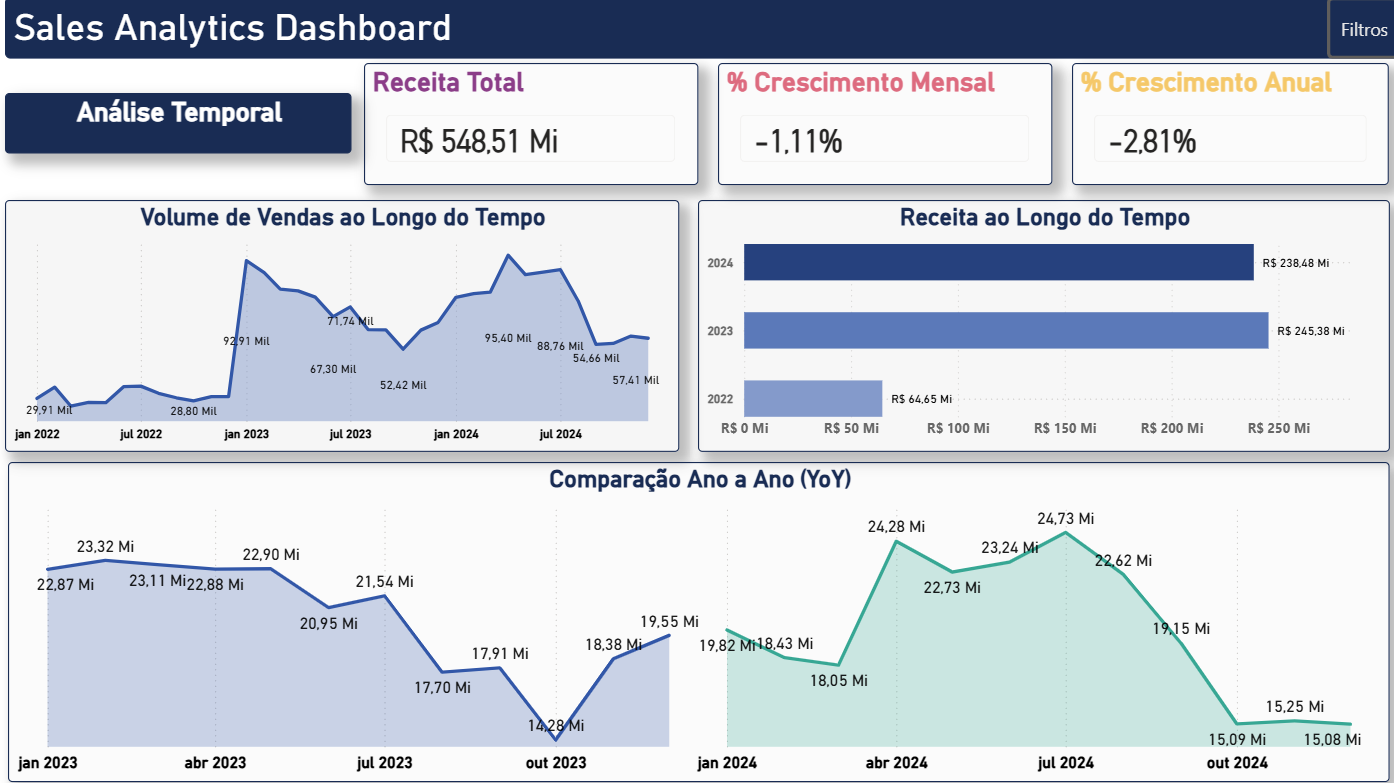

This screenshot's page, from the dashboard's own definition file:
{"tool":"powerbi","page":{"name":"Análise Temporal","canvas":[1280,720],"ordinal":1},"visuals":[{"type":"textbox","box":[10,0,1270,56.4],"z":0},{"type":"cardVisual","title":"Receita Total","fields":{"Data":["Base de Vendas.Fat total"]},"box":[338.7,61.5,303.7,111.6],"z":1000},{"type":"cardVisual","title":"% Crescimento Mensal","fields":{"Data":["Base de Vendas.Crescimento Mensal %"]},"box":[662.2,61.5,303.7,111.6],"z":2000},{"type":"barChart","title":"Receita ao Longo do Tempo","fields":{"Y":["Base de Vendas.Fat total"],"Category":["Base de Vendas.Data Venda Ajustada.Variation.Hierarquia de datas.Ano","Base de Vendas.Data Venda Ajustada.Variation.Hierarquia de datas.Mês"]},"box":[658.2,182.7,610.7,229.3],"z":4000},{"type":"actionButton","title":"Filtros","box":[1211.3,0,68.7,56.5],"z":5000},{"type":"stackedAreaChart","title":"Volume de Vendas ao Longo do Tempo","fields":{"Category":["Base de Vendas.Data Venda Ajustada.Variation.Hierarquia de datas.Ano","Base de Vendas.Data Venda Ajustada.Variation.Hierarquia de datas.Mês"],"Y":["Base de Vendas.Total de Vendas"]},"box":[12.2,182.9,630.6,229.4],"z":6000},{"type":"cardVisual","title":"% Crescimento Anual","fields":{"Data":["Base de Vendas.Crescimento Anual %"]},"box":[975.2,61.8,293.7,111],"z":7000},{"type":"areaChart","title":"Comparação Ano a Ano (YoY)","fields":{"Category":["Base de Vendas.Data Venda Ajustada.Variation.Hierarquia de datas.Ano","Base de Vendas.Data Venda Ajustada.Variation.Hierarquia de datas.Mês"],"Y":["Base de Vendas.Receita Ano Anterior","Base de Vendas.Receita Ano Atual"]},"box":[12.7,422.7,1256.4,290.9],"z":8000},{"type":"kpi","title":"Análise Temporal","fields":{"Indicator":["Base de Vendas.Fat total"]},"box":[14.2,89.3,303.7,55.8],"z":10000}]}

Visuals, with their boxes in screenshot pixels (x1, y1, x2, y2), scaled from the page's 1280x720 canvas onto the 1394x783 screenshot:
textbox: (11,0,1393,61)
"Receita Total" cardVisual: (369,67,700,188)
"% Crescimento Mensal" cardVisual: (721,67,1052,188)
"Receita ao Longo do Tempo" barChart: (717,199,1382,448)
"Filtros" actionButton: (1319,0,1393,61)
"Volume de Vendas ao Longo do Tempo" stackedAreaChart: (13,199,700,448)
"% Crescimento Anual" cardVisual: (1062,67,1382,188)
"Comparação Ano a Ano (YoY)" areaChart: (14,460,1382,776)
"Análise Temporal" kpi: (15,97,346,158)
